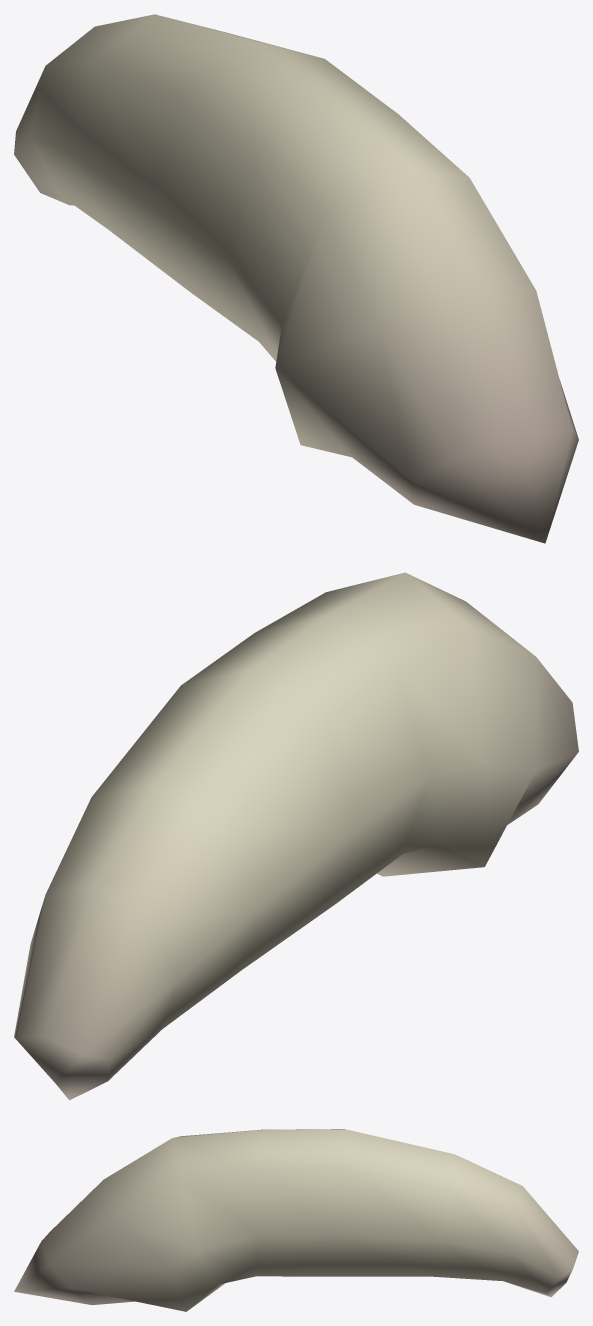
File: animals-animalparts-tooth_v2.glb
3 views of the same model, one above another, from view 1: azimuth 30°, elevation 25°; view 2: azimuth 150°, elevation 25°; view 3: azimuth 270°, elevation 25° (orthographic). The views are drawn at different scales.
Visible parts, largest first — view 1: Tooth_v2; view 2: Tooth_v2; view 3: Tooth_v2.
Part boxes in pixels (left/top/right/bottom): Tooth_v2: left=14, top=14, right=578, bottom=543; Tooth_v2: left=14, top=572, right=578, bottom=1100; Tooth_v2: left=14, top=1129, right=578, bottom=1311.
Size of the model in its own units: 0.1064 by 0.1183 by 0.3539.
